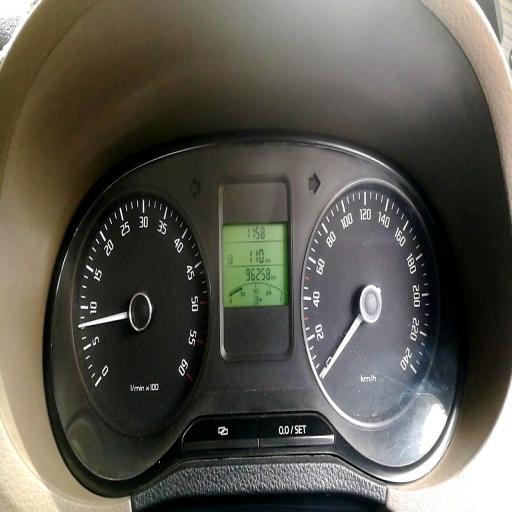tachometer: (72, 191, 213, 426)
